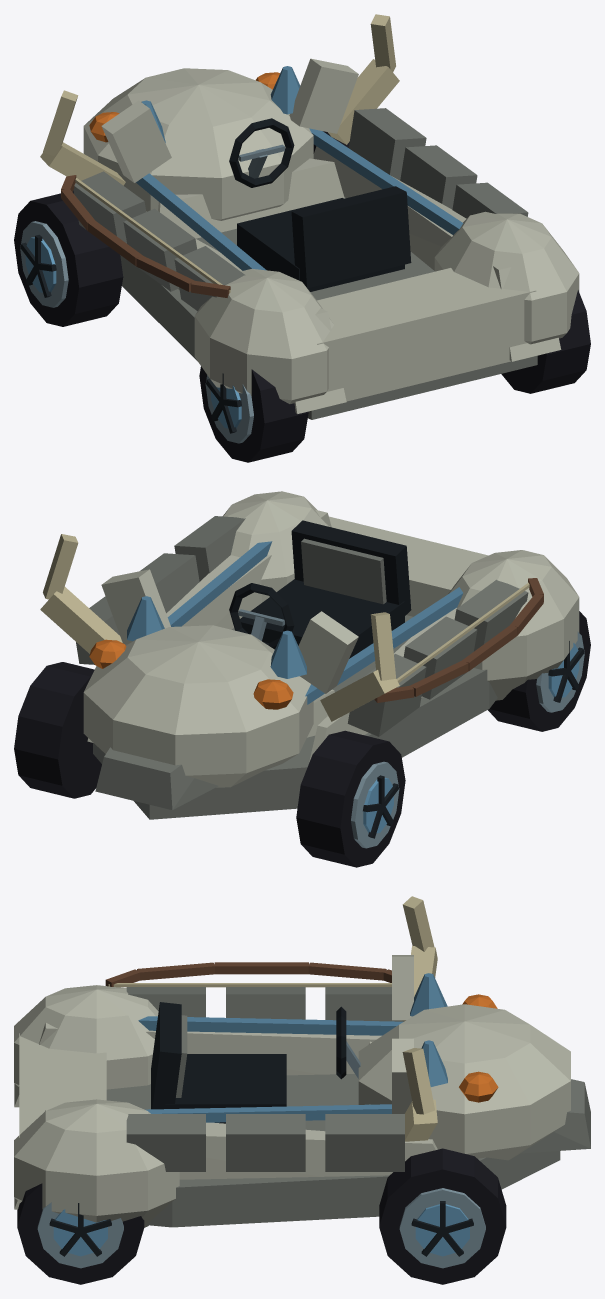
File: kart.glb
3 renders of one model, top to bottom at view 1: azimuth 30°, elevation 25°; view 2: azimuth 150°, elevation 25°; view 3: azimuth 270°, elevation 25°, orthographic. The views are drawn at different scales.
Parts seen in each view (by area): view 1: identity-beast-beast-sculpted-prow-and-haunches, identity-beast-motif-armor, identity-beast-driver-cockpit, wheel-front-left, wheel-rear-left, identity-beast-motif-horns, identity-beast-motif-bow, wheel-rear-right; view 2: identity-beast-beast-sculpted-prow-and-haunches, identity-beast-driver-cockpit, identity-beast-motif-armor, wheel-front-left, wheel-front-right, identity-beast-motif-horns, wheel-rear-left, identity-beast-motif-bow; view 3: identity-beast-beast-sculpted-prow-and-haunches, identity-beast-motif-armor, wheel-front-right, identity-beast-driver-cockpit, wheel-rear-right, identity-beast-motif-bow, identity-beast-motif-horns.
Part boxes in pixels (bbox=[...]): identity-beast-beast-sculpted-prow-and-haunches: bbox=[83, 58, 579, 419]; identity-beast-motif-armor: bbox=[73, 108, 528, 311]; identity-beast-driver-cockpit: bbox=[229, 118, 411, 291]; wheel-front-left: bbox=[14, 190, 123, 326]; wheel-rear-left: bbox=[199, 366, 308, 462]; identity-beast-motif-horns: bbox=[40, 14, 399, 185]; identity-beast-motif-bow: bbox=[61, 175, 230, 297]; wheel-rear-right: bbox=[501, 290, 590, 393]; identity-beast-beast-sculpted-prow-and-haunches: bbox=[83, 491, 579, 819]; identity-beast-driver-cockpit: bbox=[229, 520, 411, 658]; identity-beast-motif-armor: bbox=[76, 516, 528, 736]; wheel-front-left: bbox=[296, 730, 405, 867]; wheel-front-right: bbox=[14, 662, 101, 798]; identity-beast-motif-horns: bbox=[40, 534, 399, 721]; wheel-rear-left: bbox=[488, 611, 590, 731]; identity-beast-motif-bow: bbox=[374, 578, 543, 702]; identity-beast-beast-sculpted-prow-and-haunches: bbox=[14, 955, 590, 1227]; identity-beast-motif-armor: bbox=[126, 987, 404, 1171]; wheel-front-right: bbox=[379, 1148, 506, 1284]; identity-beast-driver-cockpit: bbox=[151, 1002, 360, 1123]; wheel-rear-right: bbox=[17, 1183, 144, 1284]; identity-beast-motif-bow: bbox=[105, 962, 391, 987]; identity-beast-motif-horns: bbox=[402, 896, 437, 1141].
Size of the model in its own units: 2.09 by 1.29 by 2.9.
